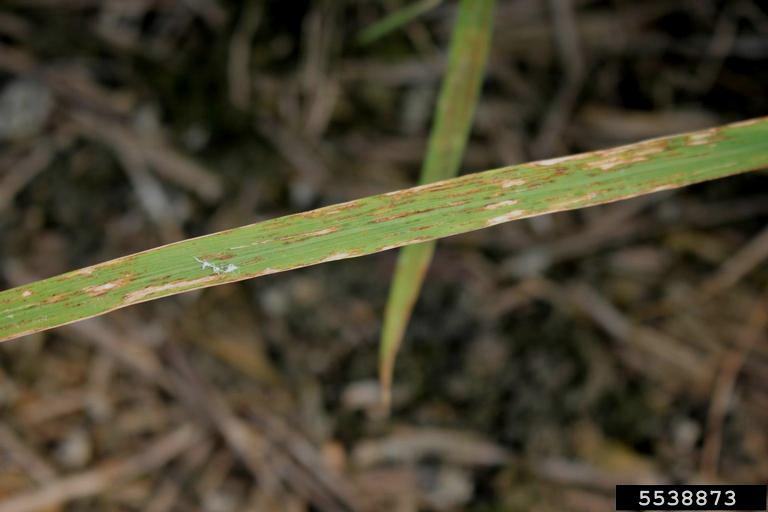2 BacterialBlight: (115, 123, 723, 287)
